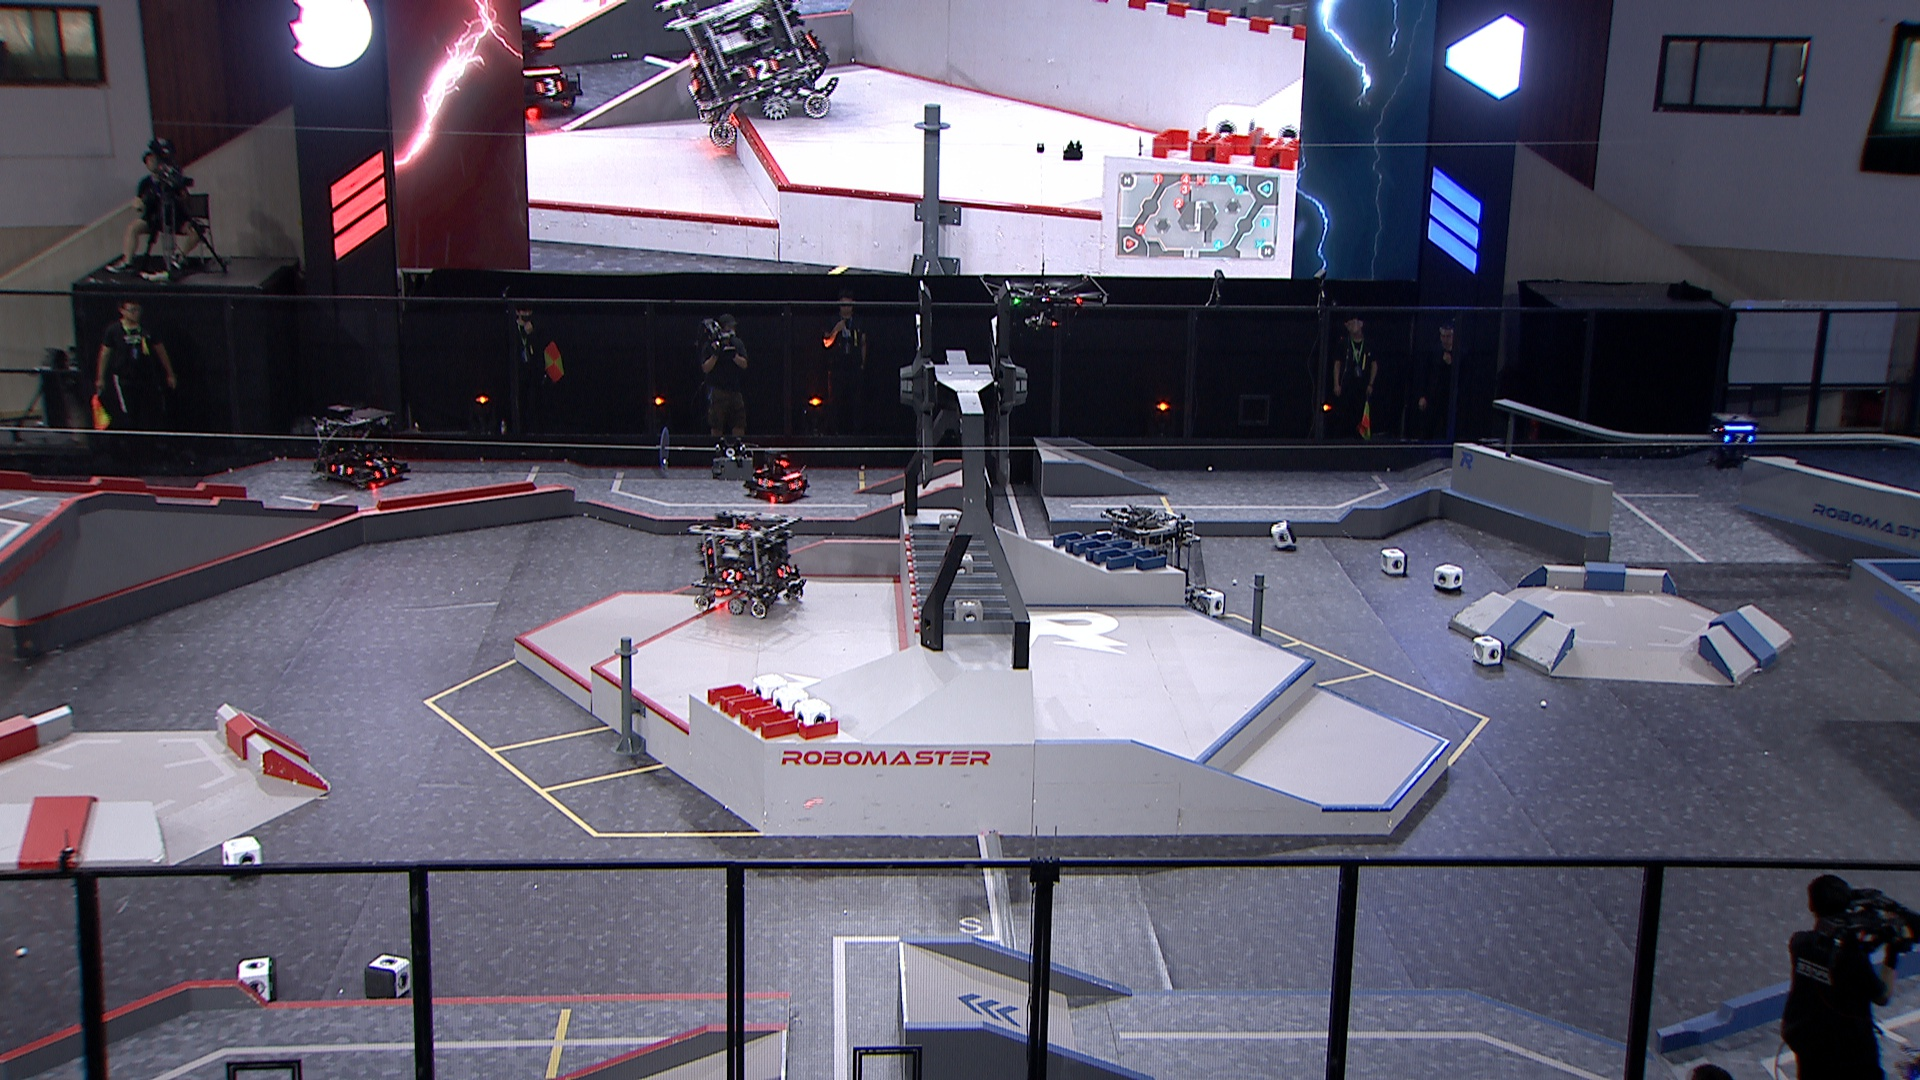armor: (1721, 433, 1755, 446), (717, 567, 744, 584), (328, 462, 353, 477), (373, 467, 396, 480), (775, 562, 793, 579), (363, 456, 389, 467), (756, 476, 774, 491), (789, 479, 803, 493)
car: (1096, 505, 1212, 621), (684, 510, 808, 618), (309, 406, 411, 489), (744, 454, 811, 502)
ignore: (520, 21, 584, 116)
watcher: (1704, 411, 1760, 473)
